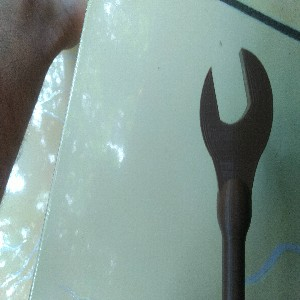spanner: (199, 46, 274, 300)
